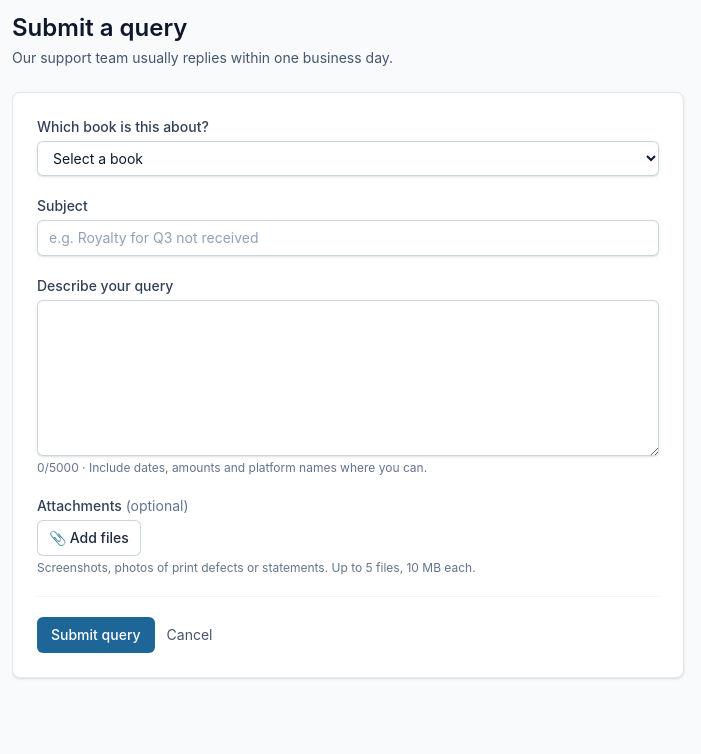
Test case: new ticket form: server errors › shows the friendly message on 429
This screenshot has width=701, height=754.
Select "General / Account Level" in the dropdown labelled "Which book is this about?": (348, 158) [37,141,659,176]
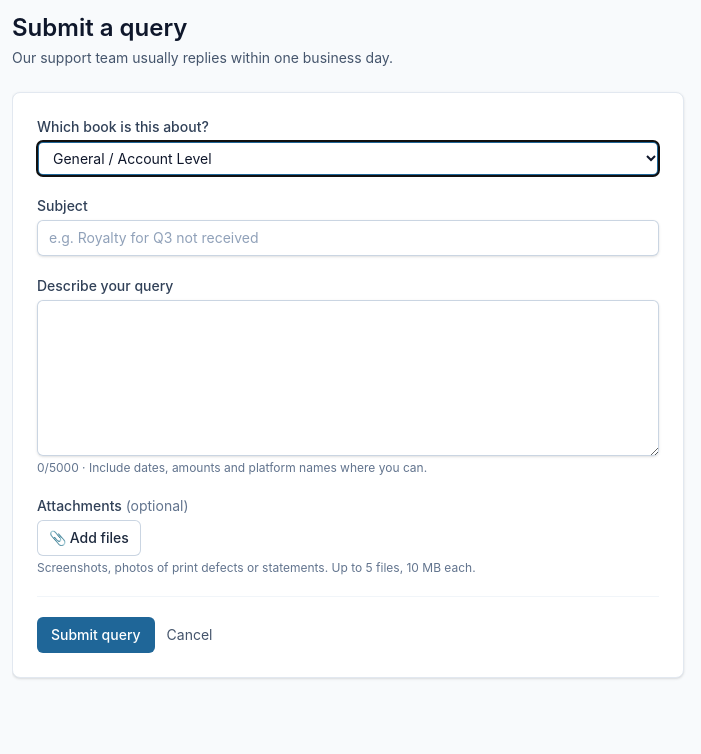
In the field labelled "Subject": (348, 238) [37,220,659,256], type "Royalty question"
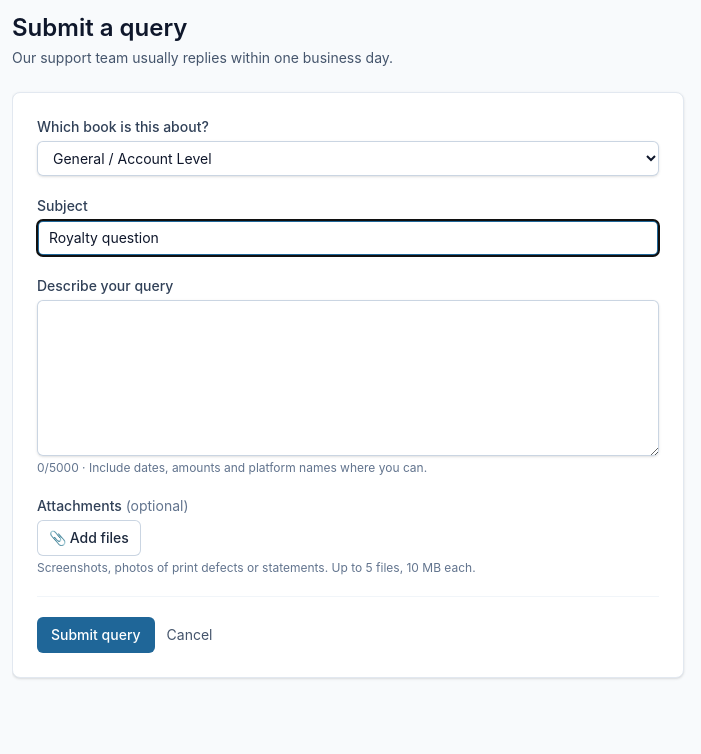
In the text box labelled "Describe your query": (348, 378) [37,300,659,456], type "When will my next payout arrive?"
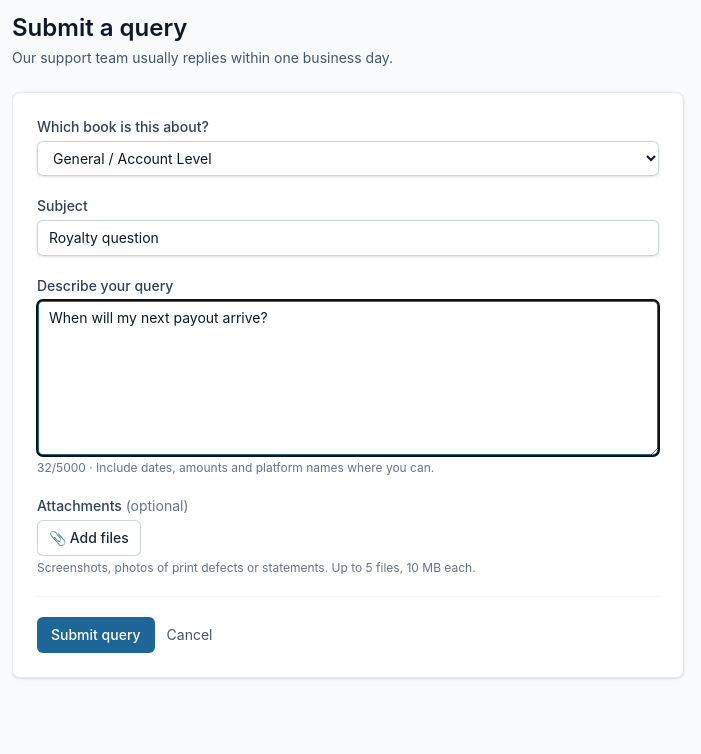
Click the button "Submit query": (96, 635) [37,617,155,653]
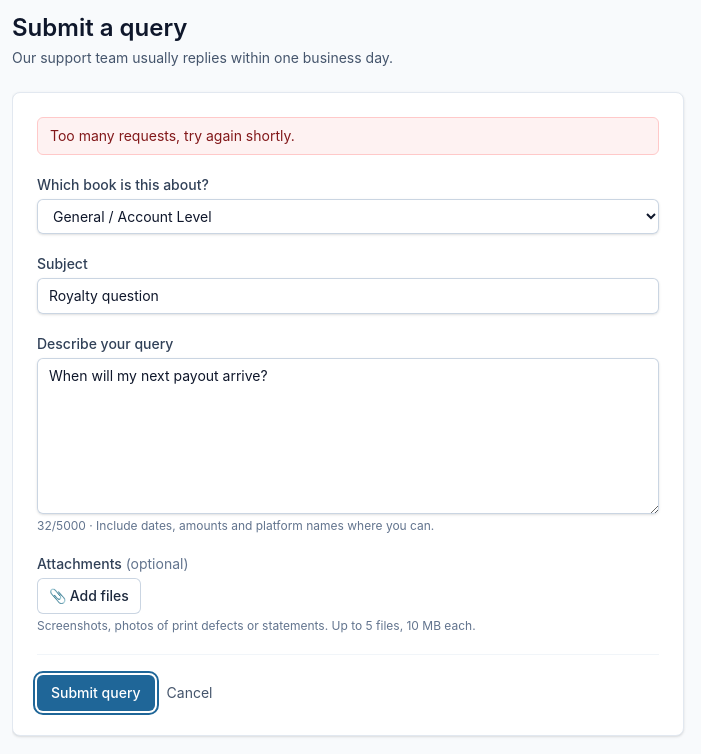
expect the text "Too many requests, try again shortly." is shown: met, box [50,127,295,144]
